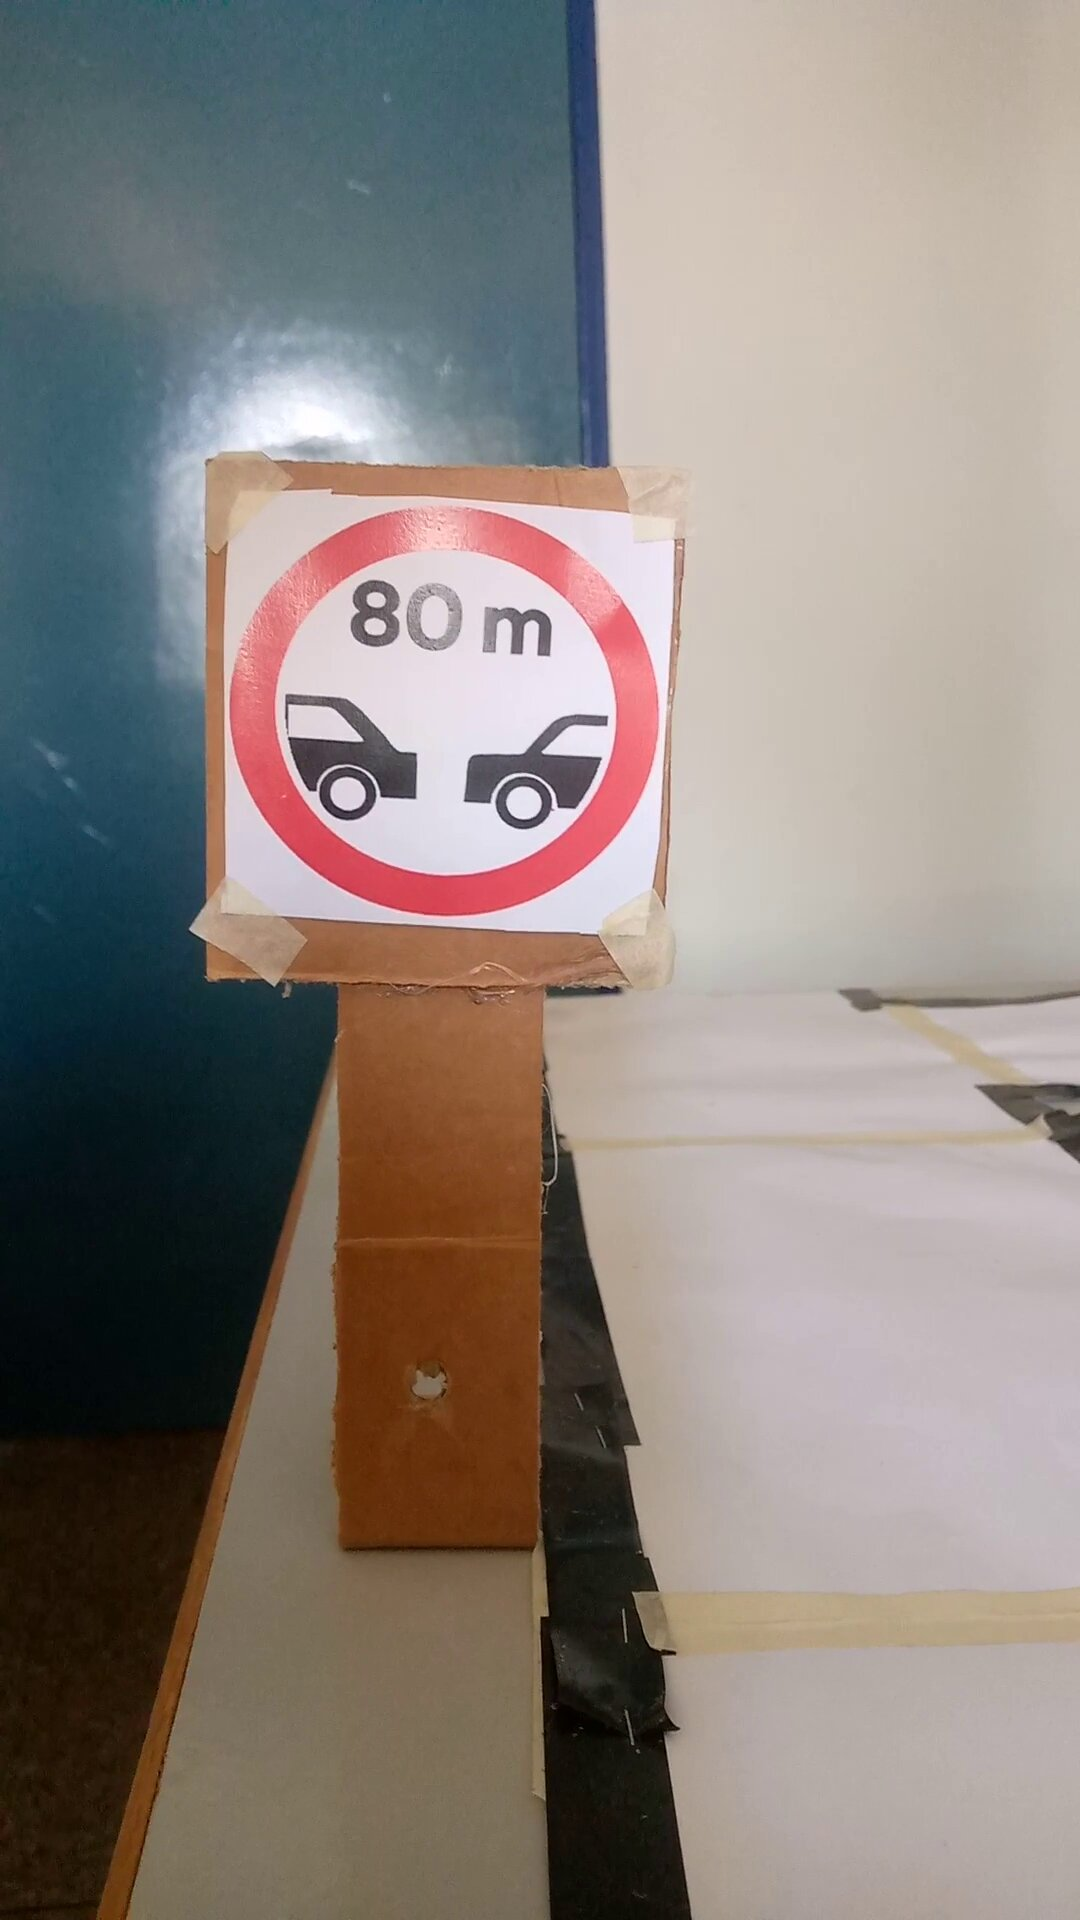panel001: (198, 454, 670, 994)
